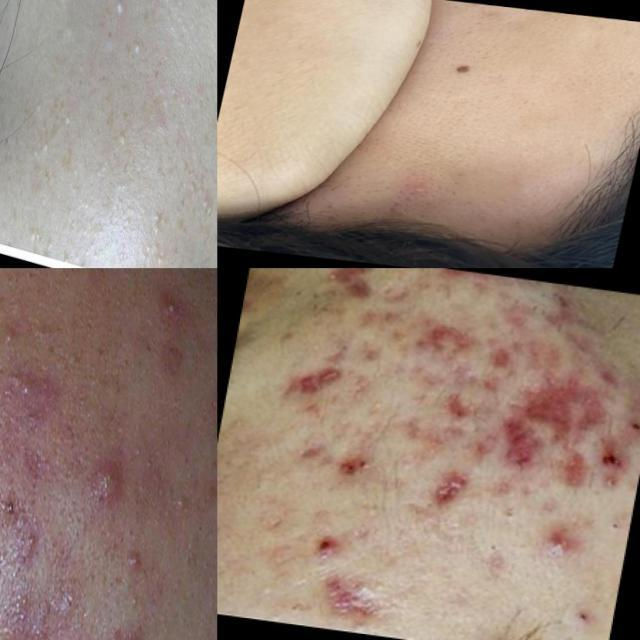Pimples: (526, 356, 606, 442), (314, 566, 402, 636), (408, 313, 482, 372), (426, 378, 494, 440), (85, 432, 130, 514), (488, 413, 542, 478), (554, 436, 602, 504), (428, 456, 474, 524), (278, 355, 336, 408), (133, 200, 176, 268), (25, 100, 63, 173), (466, 525, 524, 572), (256, 581, 323, 621), (23, 215, 72, 267), (287, 433, 339, 480), (270, 275, 319, 324), (187, 164, 217, 232), (492, 483, 541, 524), (332, 268, 382, 300), (173, 431, 204, 479), (596, 500, 625, 550), (188, 508, 214, 554), (113, 111, 137, 155), (124, 528, 144, 578), (163, 295, 187, 331), (170, 483, 192, 522), (116, 617, 152, 640), (109, 0, 130, 28), (128, 34, 146, 64), (0, 377, 5, 383), (0, 344, 1, 349)
